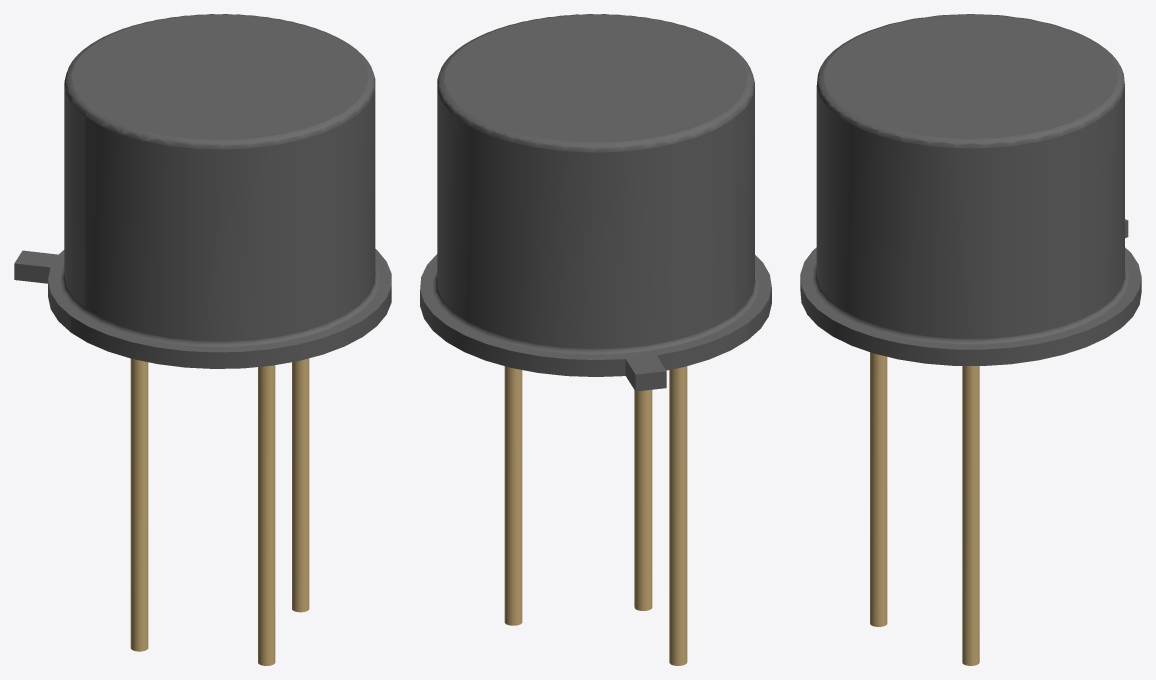
The picture shows the model from 3 angles, left to right: view 1: azimuth 30°, elevation 25°; view 2: azimuth 150°, elevation 25°; view 3: azimuth 270°, elevation 25°; orthographic projection. The views are drawn at different scales.
Visible parts, largest first — view 1: 0.16666666666666666_0.16666666666666666_0.16666666666666666_, 0.75_0.5_0.25_0.9; view 2: 0.16666666666666666_0.16666666666666666_0.16666666666666666_, 0.75_0.5_0.25_0.9; view 3: 0.16666666666666666_0.16666666666666666_0.16666666666666666_, 0.75_0.5_0.25_0.9.
Boxes of the visible parts, x1=… form: 0.16666666666666666_0.16666666666666666_0.16666666666666666_: x1=14, y1=14, x2=391, y2=368; 0.75_0.5_0.25_0.9: x1=130, y1=358, x2=309, y2=665; 0.16666666666666666_0.16666666666666666_0.16666666666666666_: x1=420, y1=14, x2=771, y2=391; 0.75_0.5_0.25_0.9: x1=504, y1=366, x2=687, y2=665; 0.16666666666666666_0.16666666666666666_0.16666666666666666_: x1=800, y1=14, x2=1141, y2=365; 0.75_0.5_0.25_0.9: x1=870, y1=352, x2=979, y2=665.
Bounding box in the file's own units: 0.9389 × 1.66 × 0.9393.
